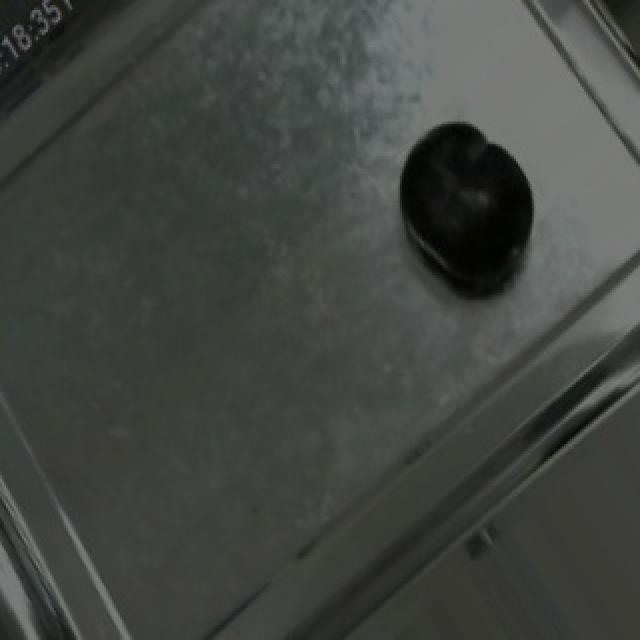Fruit: (378, 102, 558, 300)
